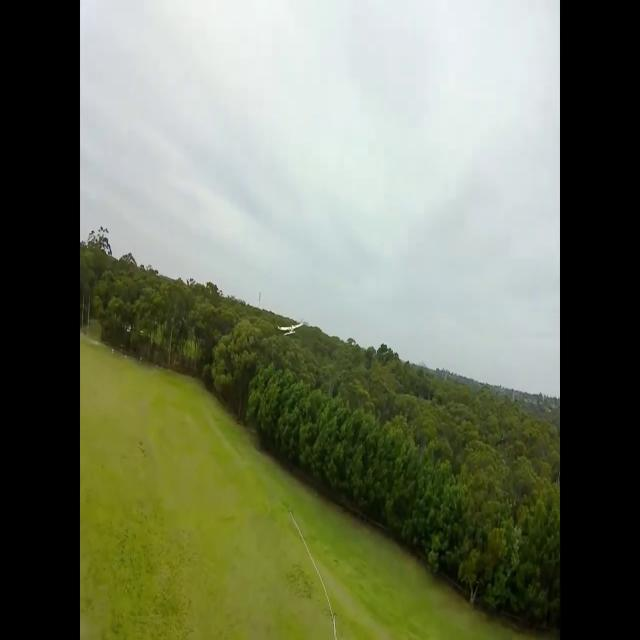iha: (280, 314, 304, 333)
